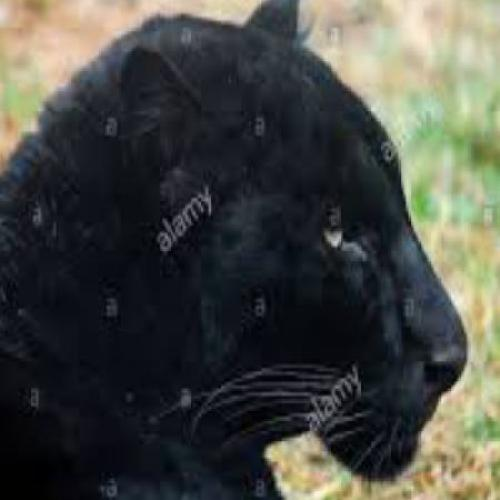panther-endangered: (0, 0, 467, 500)
